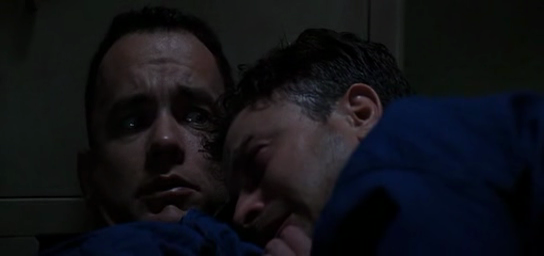cu: (1, 1, 544, 256)
face: (94, 56, 225, 224), (224, 114, 310, 247)
person: (224, 25, 544, 256), (35, 7, 264, 256)
